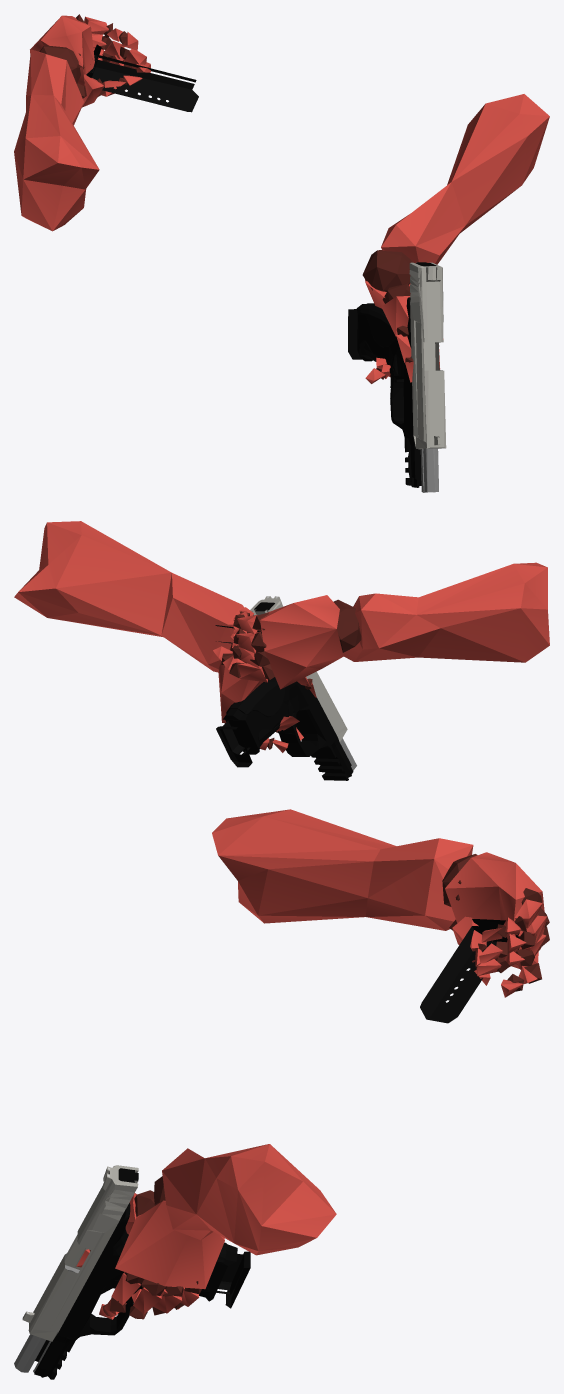
File: M&P9reloadNormal1lowP_000124.obj
3 renders of one model, top to bottom at view 1: azimuth 30°, elevation 25°; view 2: azimuth 150°, elevation 25°; view 3: azimuth 270°, elevation 25°, orthographic. The views are drawn at different scales.
Visible parts, largest first — view 1: Beta_Surface.001_Beta_Surface.002, slide_平面.002, triger_平面.001, Beta_Joints.001_Beta_Joints.002, magazine.002_平面.005; view 2: Beta_Surface.001_Beta_Surface.002, triger_平面.001, Beta_Joints.001_Beta_Joints.002, slide_平面.002, magazine_平面.003; view 3: Beta_Surface.001_Beta_Surface.002, triger_平面.001, slide_平面.002, Beta_Joints.001_Beta_Joints.002, magazine.002_平面.005, magazine_平面.003.
Boxes of the visible parts, x1,y1,x2,y2 form: Beta_Surface.001_Beta_Surface.002: [14, 15, 549, 383]; slide_平面.002: [409, 262, 446, 449]; triger_平面.001: [356, 297, 438, 492]; Beta_Joints.001_Beta_Joints.002: [39, 14, 439, 379]; magazine.002_平面.005: [86, 44, 198, 112]; Beta_Surface.001_Beta_Surface.002: [14, 521, 549, 752]; triger_平面.001: [223, 677, 356, 780]; Beta_Joints.001_Beta_Joints.002: [221, 599, 361, 749]; slide_平面.002: [250, 596, 347, 742]; magazine_平面.003: [216, 720, 252, 767]; Beta_Surface.001_Beta_Surface.002: [76, 809, 546, 1319]; triger_平面.001: [14, 1203, 237, 1379]; slide_平面.002: [22, 1165, 138, 1341]; Beta_Joints.001_Beta_Joints.002: [89, 854, 549, 1319]; magazine.002_平面.005: [420, 918, 519, 1023]; magazine_平面.003: [115, 1251, 250, 1308].
Size of the model in its own units: 104 by 70.26 by 80.77.
